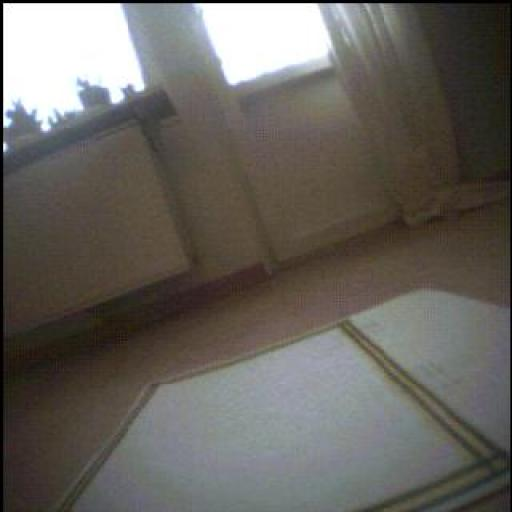Pad: (61, 292, 512, 512), (342, 321, 510, 512), (352, 291, 512, 454)
